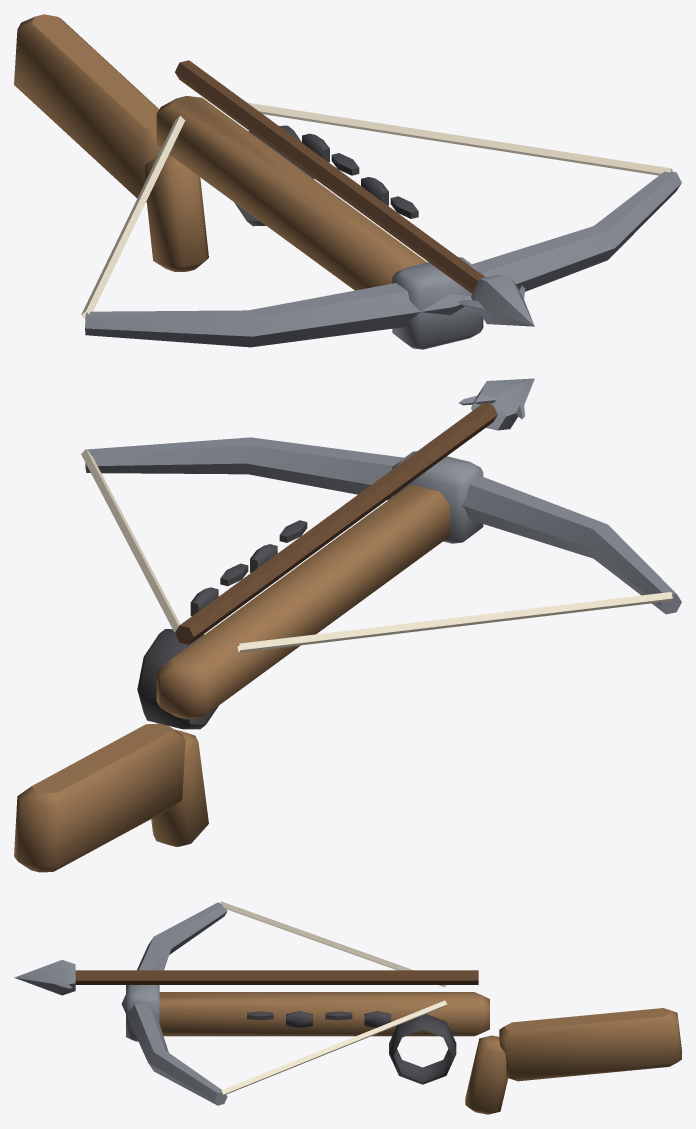
The model's file is harpoon-1.glb.
The picture shows the model from 3 angles, top to bottom: view 1: azimuth 30°, elevation 25°; view 2: azimuth 150°, elevation 25°; view 3: azimuth 270°, elevation 25°; orthographic projection. The views are drawn at different scales.
Visible parts, largest first — view 1: harpoon-1; view 2: harpoon-1; view 3: harpoon-1.
Part boxes in pixels (x1,y1,x2,y2): harpoon-1: [14, 14, 681, 349]; harpoon-1: [14, 378, 681, 872]; harpoon-1: [14, 901, 681, 1114].
Bounding box in the file's own units: 0.4079 × 0.1463 × 0.5965.
